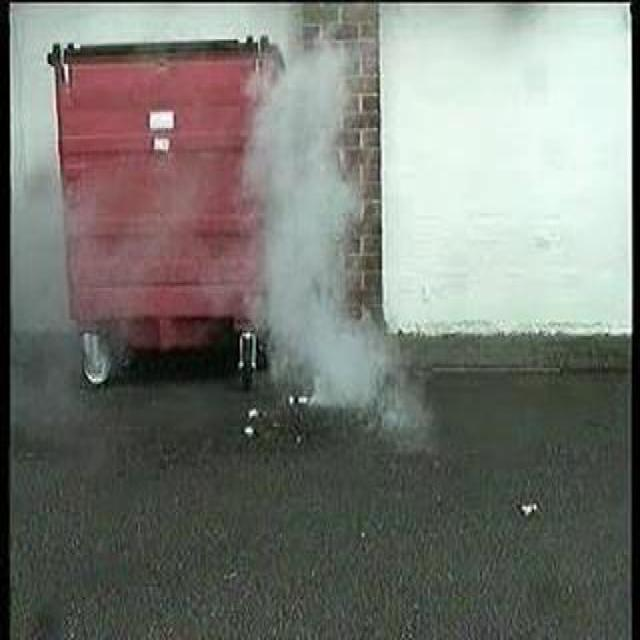Smoke: (237, 38, 438, 434)
